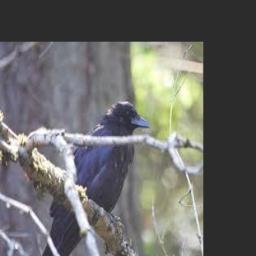Crow: (40, 100, 149, 256)
